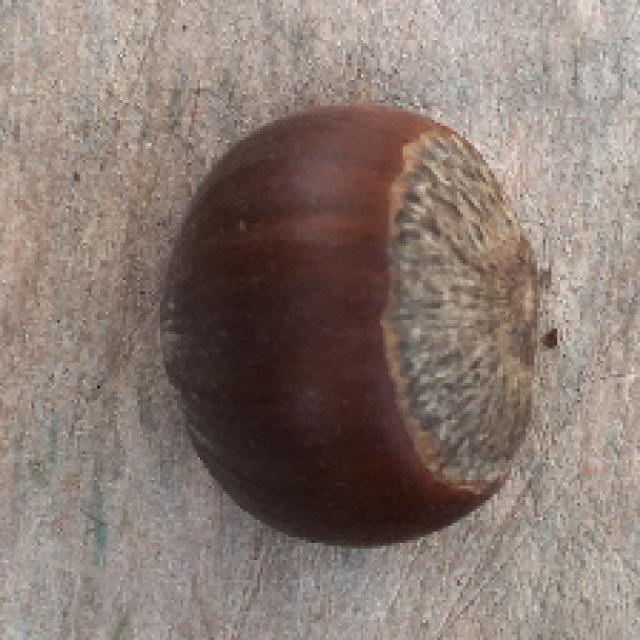qualityHazelnut: (150, 106, 546, 548)
